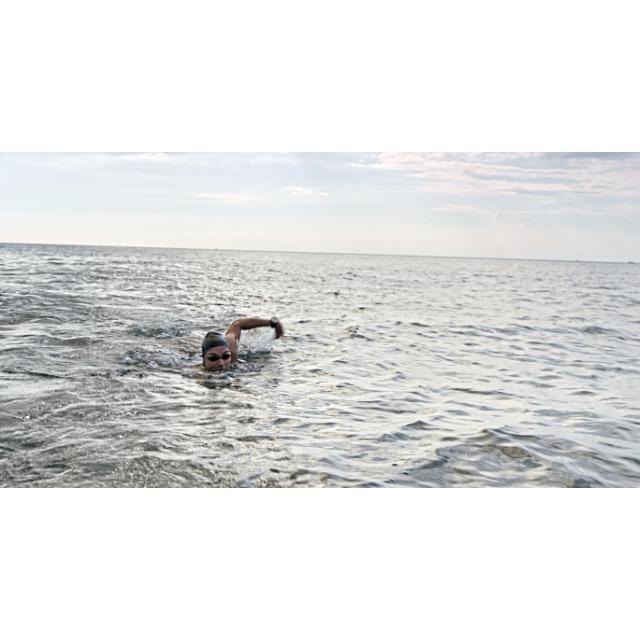human: (191, 314, 286, 377)
